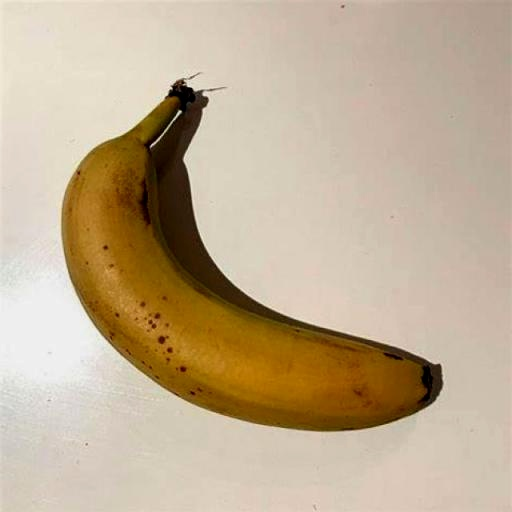fruit: (62, 80, 431, 430)
